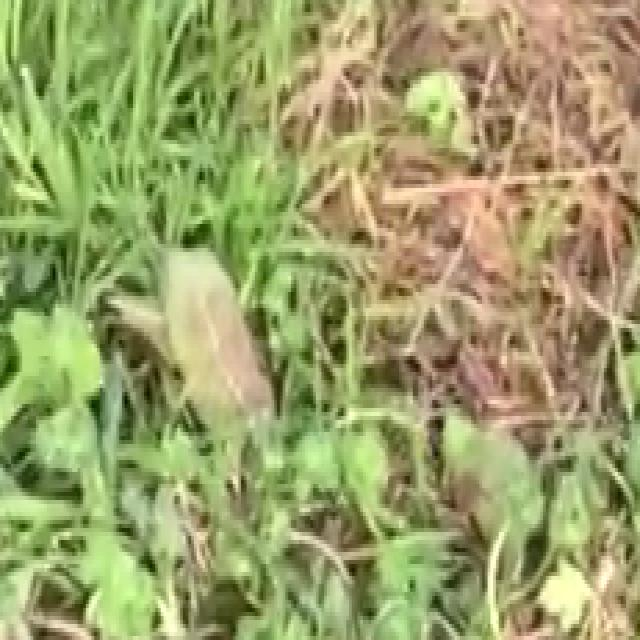organic waste: (80, 200, 374, 584)
